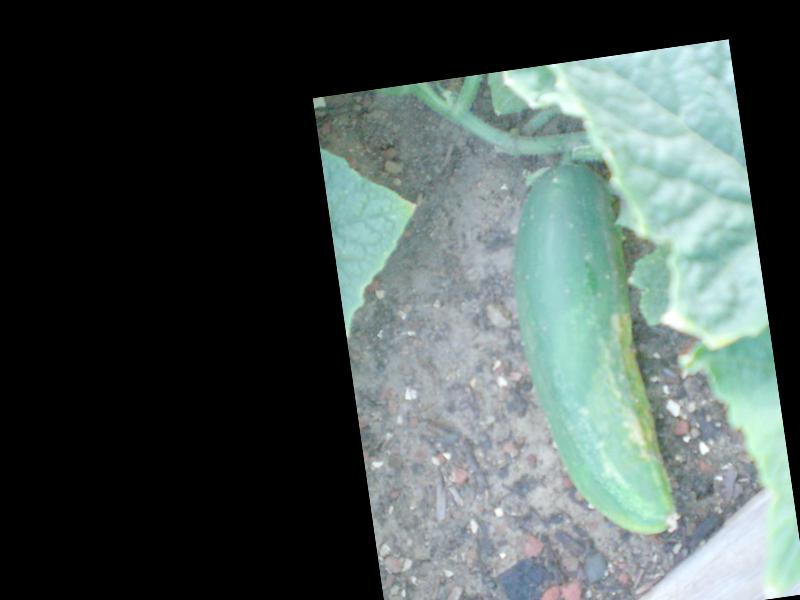Cucumber: (499, 156, 680, 548)
